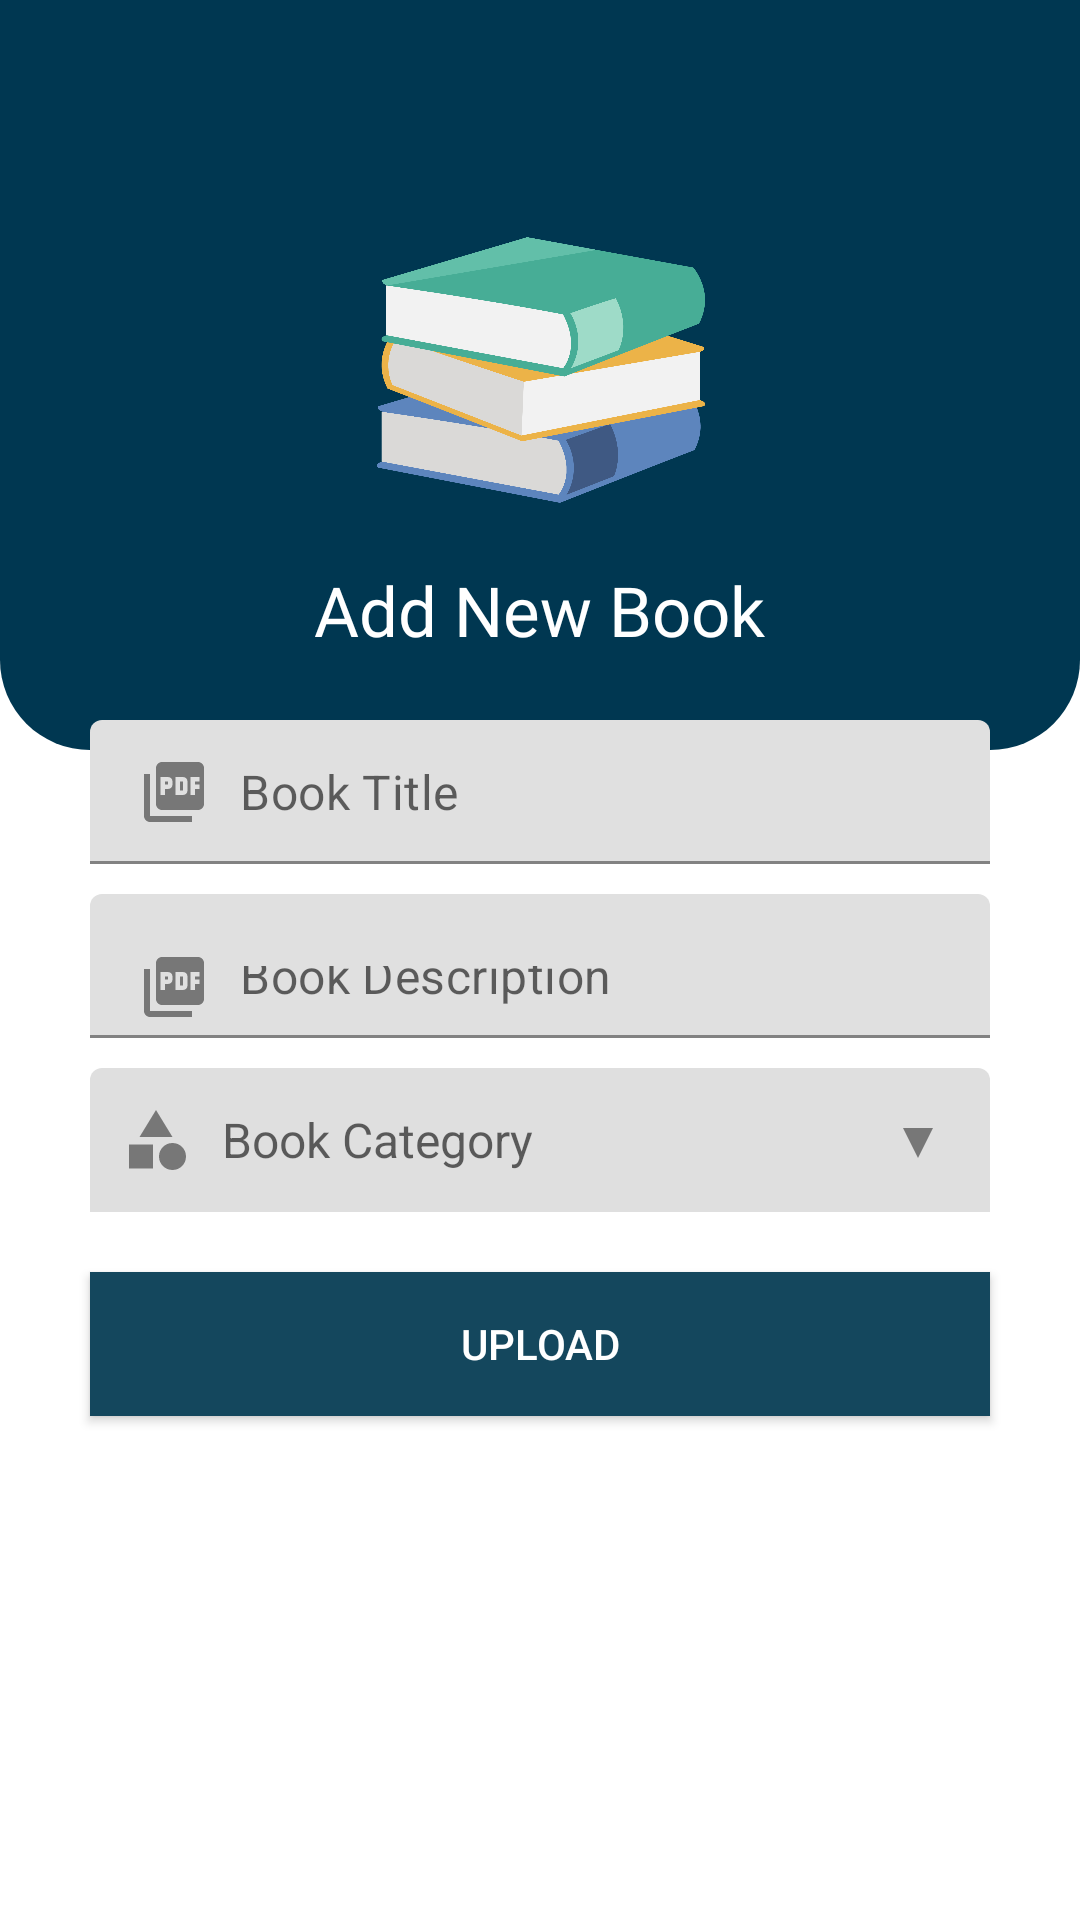

Where icons sit on this 1080px×1920px app screen, as bbox=[x1, y1, x2, y2]:
books: bbox=[377, 237, 705, 503]
